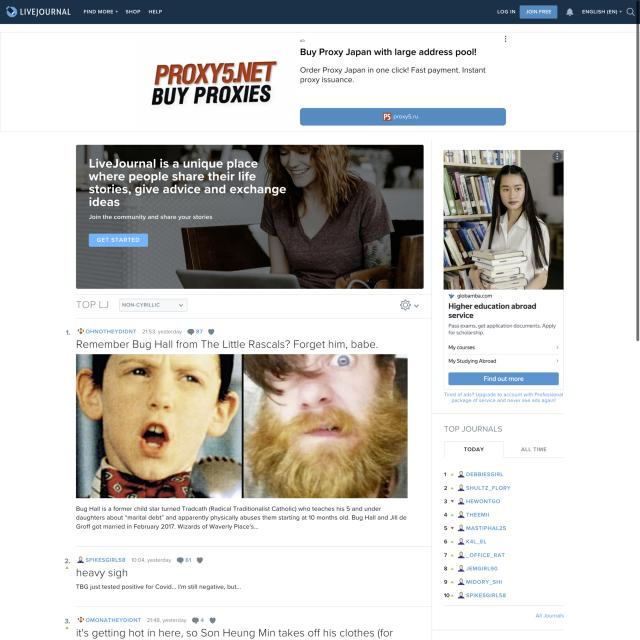logo: (3, 3, 73, 21)
navigation: (82, 8, 164, 17)
